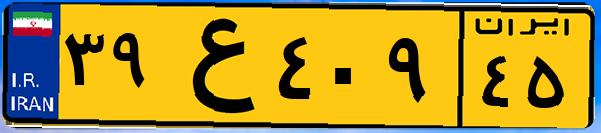0: (330, 28, 385, 110)
3: (57, 26, 110, 100)
4: (270, 28, 330, 110), (475, 38, 525, 113)
5: (525, 38, 570, 115)
9: (385, 28, 445, 110), (110, 28, 158, 98)
ع: (158, 12, 270, 120)
